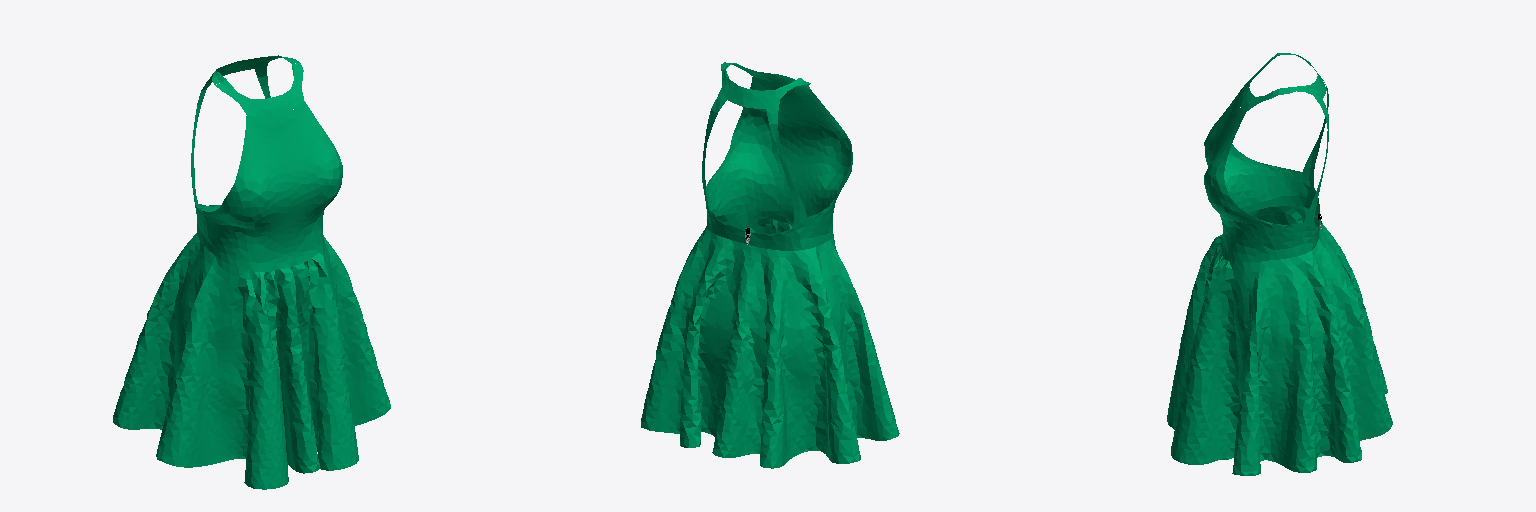
The picture shows the model from 3 angles: view 1: azimuth 30°, elevation 25°; view 2: azimuth 150°, elevation 25°; view 3: azimuth 270°, elevation 25°; orthographic projection.
Parts seen in each view (by area): view 1: small_greenDress_noInside:Mesh small_greenDress_noInside:polySur; view 2: small_greenDress_noInside:Mesh small_greenDress_noInside:polySur; view 3: small_greenDress_noInside:Mesh small_greenDress_noInside:polySur.
Boxes of the visible parts, x1,y1,x2,y2 form: small_greenDress_noInside:Mesh small_greenDress_noInside:polySur: [113, 55, 390, 489]; small_greenDress_noInside:Mesh small_greenDress_noInside:polySur: [641, 62, 899, 468]; small_greenDress_noInside:Mesh small_greenDress_noInside:polySur: [1167, 53, 1392, 475].
Bounding box in the file's own units: 5.09 × 7.76 × 4.27.
14 materials, 2 textured.